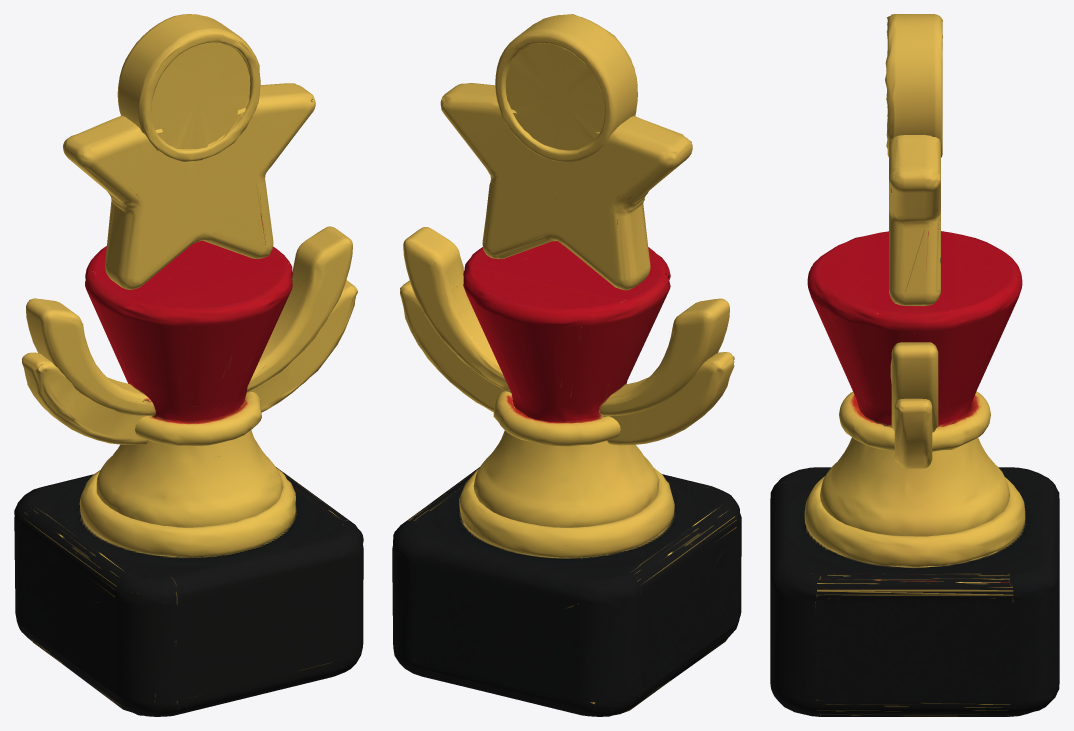
File: Meshy_AI_Golden_Star_Trophy_20261028_texture.fbx
3 renders of one model, left to right at view 1: azimuth 30°, elevation 25°; view 2: azimuth 150°, elevation 25°; view 3: azimuth 270°, elevation 25°, orthographic. The views are drawn at different scales.
Parts seen in each view (by area): view 1: Mesh_0; view 2: Mesh_0; view 3: Mesh_0.
Part boxes in pixels (x1,y1,x2,y2): Mesh_0: [14, 14, 363, 716]; Mesh_0: [392, 14, 741, 716]; Mesh_0: [770, 14, 1059, 716].
Bounding box in the file's own units: 51.51 × 95.07 × 38.72.
Materials: 1 (1 with a texture image).
